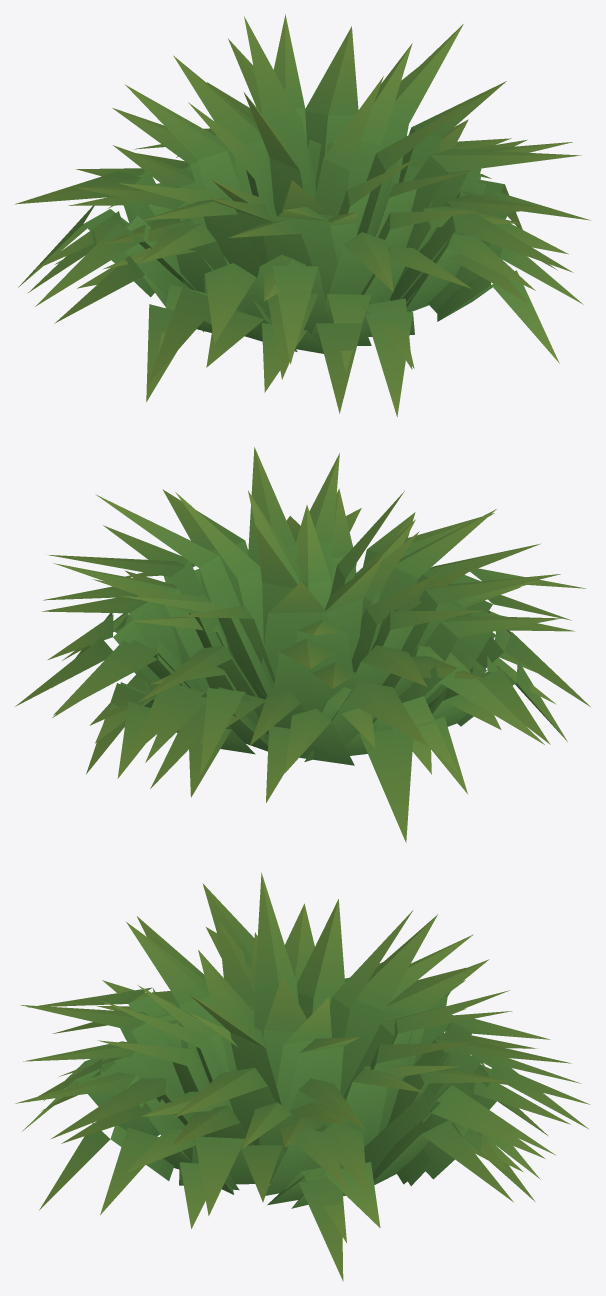
Rendered from lp-Bush_2.glb.
The picture shows the model from 3 angles, top to bottom: view 1: azimuth 30°, elevation 25°; view 2: azimuth 150°, elevation 25°; view 3: azimuth 270°, elevation 25°; orthographic projection. The views are drawn at different scales.
Parts seen in each view (by area): view 1: lp-Bush_2; view 2: lp-Bush_2; view 3: lp-Bush_2.
Boxes of the visible parts, box(x1,y1,x2,y2) form: lp-Bush_2: box(15, 14, 591, 416); lp-Bush_2: box(15, 447, 590, 842); lp-Bush_2: box(15, 872, 590, 1281).
Bounding box in the file's own units: 2.4 × 1.15 × 2.38.
